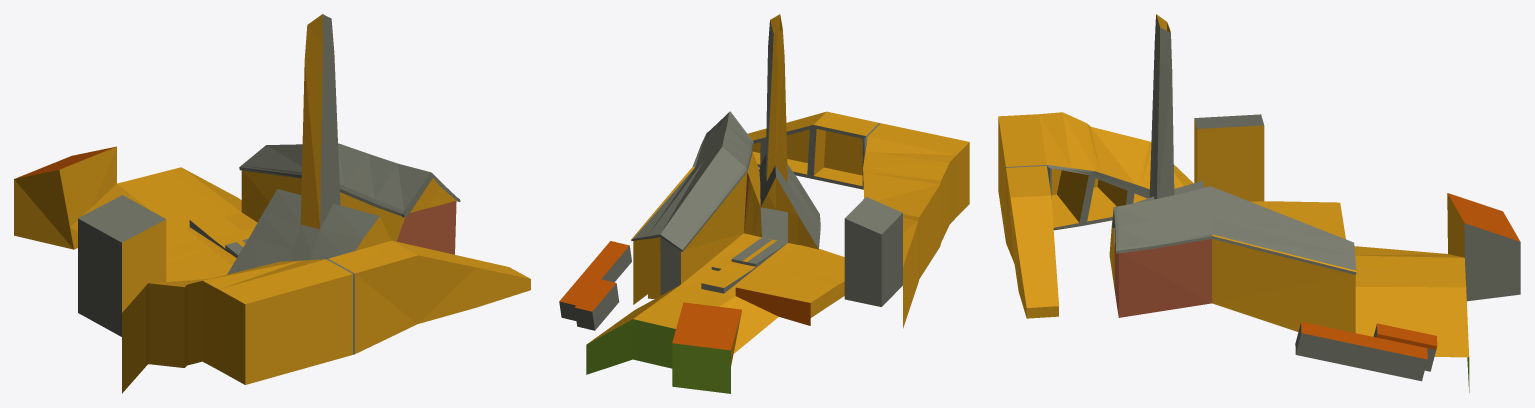
The model's file is la fabrica 1.fbx.
3 views of the same model, side by side, from view 1: azimuth 30°, elevation 25°; view 2: azimuth 150°, elevation 25°; view 3: azimuth 270°, elevation 25° (orthographic). The views are drawn at different scales.
Parts seen in each view (by area): view 1: la fabrica; view 2: la fabrica; view 3: la fabrica.
Part boxes in pixels (left/top/right/bottom): la fabrica: left=14, top=14, right=530, bottom=393; la fabrica: left=559, top=14, right=969, bottom=393; la fabrica: left=998, top=14, right=1520, bottom=392.
Size of the model in its own units: 4633 by 4905 by 6792.
